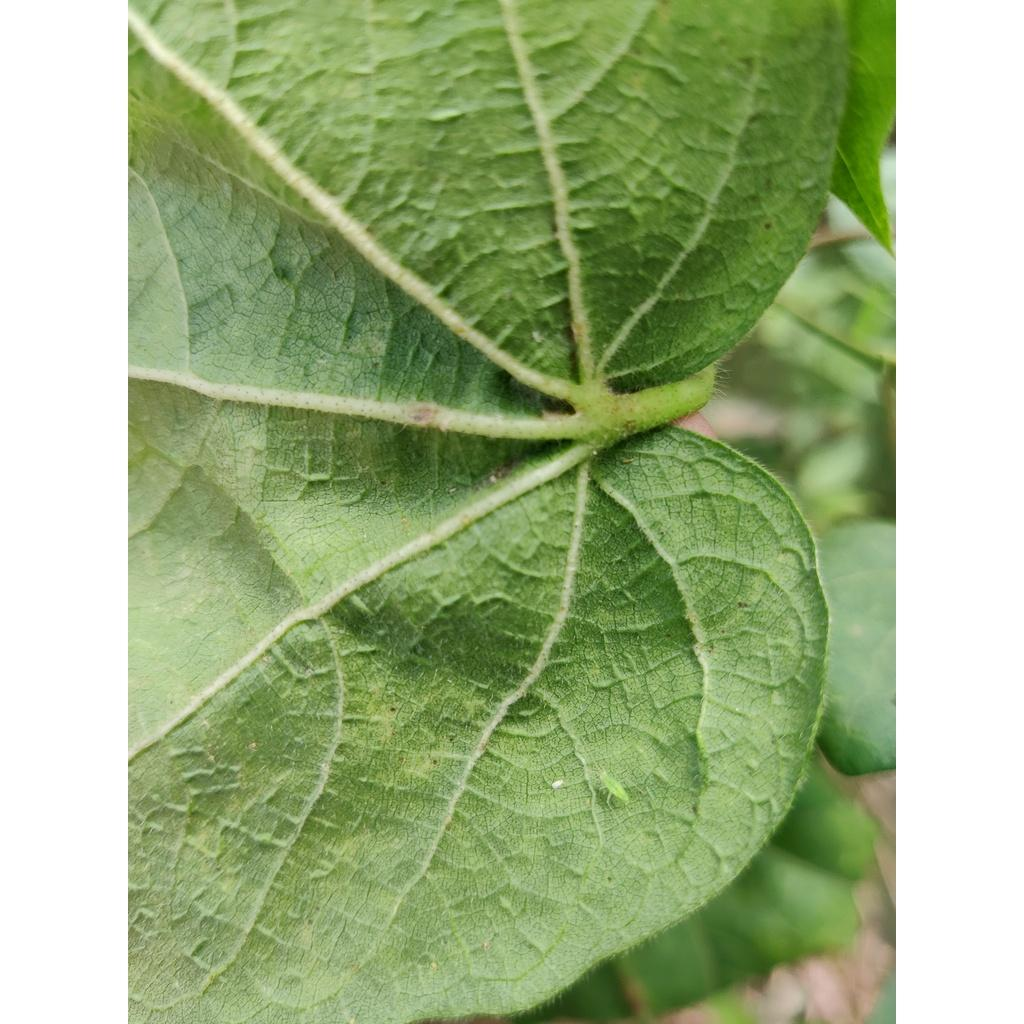adult: (551, 780, 563, 789), (532, 331, 541, 343), (489, 474, 497, 484), (449, 488, 456, 492)
